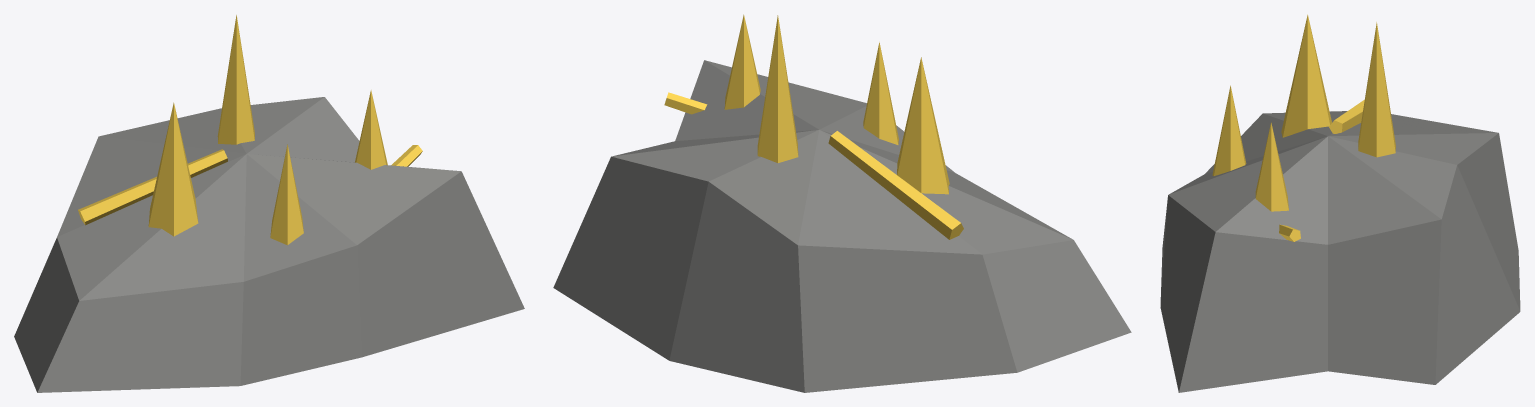
The model's file is ore_gold.glb.
3 views of the same model, side by side, from view 1: azimuth 30°, elevation 25°; view 2: azimuth 150°, elevation 25°; view 3: azimuth 270°, elevation 25° (orthographic). The views are drawn at different scales.
Parts seen in each view (by area): view 1: ore_gold_rock_base, ore_gold_ore_crystal_1, ore_gold_ore_crystal_2, ore_gold_ore_vein_1, ore_gold_ore_crystal_4, ore_gold_ore_crystal_3; view 2: ore_gold_rock_base, ore_gold_ore_crystal_1, ore_gold_ore_crystal_2, ore_gold_ore_vein_1, ore_gold_ore_crystal_4, ore_gold_ore_crystal_3, ore_gold_ore_vein_2; view 3: ore_gold_rock_base, ore_gold_ore_crystal_1, ore_gold_ore_crystal_2, ore_gold_ore_crystal_3, ore_gold_ore_crystal_4, ore_gold_ore_vein_1.
Boxes of the visible parts, x1=… form: ore_gold_rock_base: x1=14, y1=97, x2=524, y2=392; ore_gold_ore_crystal_1: x1=148, y1=102, x2=198, y2=236; ore_gold_ore_crystal_2: x1=217, y1=15, x2=254, y2=144; ore_gold_ore_vein_1: x1=78, y1=149, x2=227, y2=225; ore_gold_ore_crystal_4: x1=270, y1=144, x2=303, y2=245; ore_gold_ore_crystal_3: x1=355, y1=90, x2=387, y2=169; ore_gold_rock_base: x1=553, y1=60, x2=1131, y2=392; ore_gold_ore_crystal_1: x1=897, y1=57, x2=949, y2=194; ore_gold_ore_crystal_2: x1=757, y1=15, x2=798, y2=162; ore_gold_ore_vein_1: x1=828, y1=131, x2=963, y2=239; ore_gold_ore_crystal_4: x1=863, y1=42, x2=898, y2=144; ore_gold_ore_crystal_3: x1=724, y1=14, x2=760, y2=109; ore_gold_ore_vein_2: x1=664, y1=92, x2=707, y2=114; ore_gold_rock_base: x1=1160, y1=111, x2=1520, y2=392; ore_gold_ore_crystal_1: x1=1281, y1=14, x2=1331, y2=137; ore_gold_ore_crystal_2: x1=1358, y1=22, x2=1395, y2=157; ore_gold_ore_crystal_3: x1=1255, y1=122, x2=1288, y2=211; ore_gold_ore_crystal_4: x1=1212, y1=85, x2=1246, y2=175; ore_gold_ore_vein_1: x1=1329, y1=100, x2=1364, y2=133.
Bounding box in the file's own units: 1.31 × 0.75 × 0.8862.
